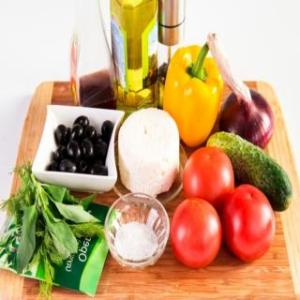bell_pepper: (163, 40, 219, 148)
cucumber: (204, 130, 292, 208)
onion: (220, 82, 276, 146)
tomato: (225, 184, 276, 264), (174, 199, 224, 266), (182, 144, 231, 206)
